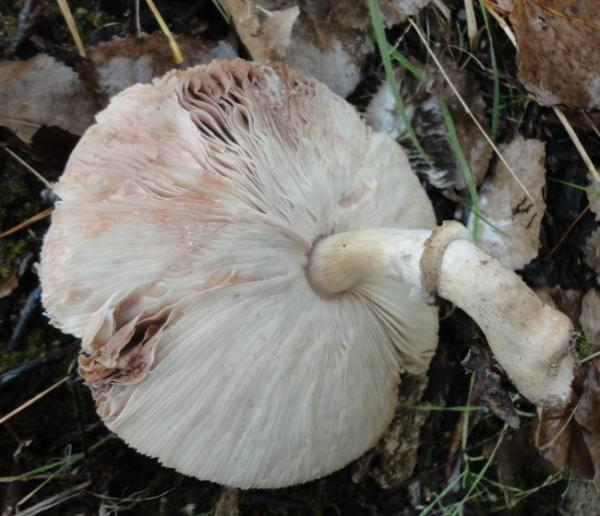Non-edible Mushroom: (33, 55, 578, 491)
